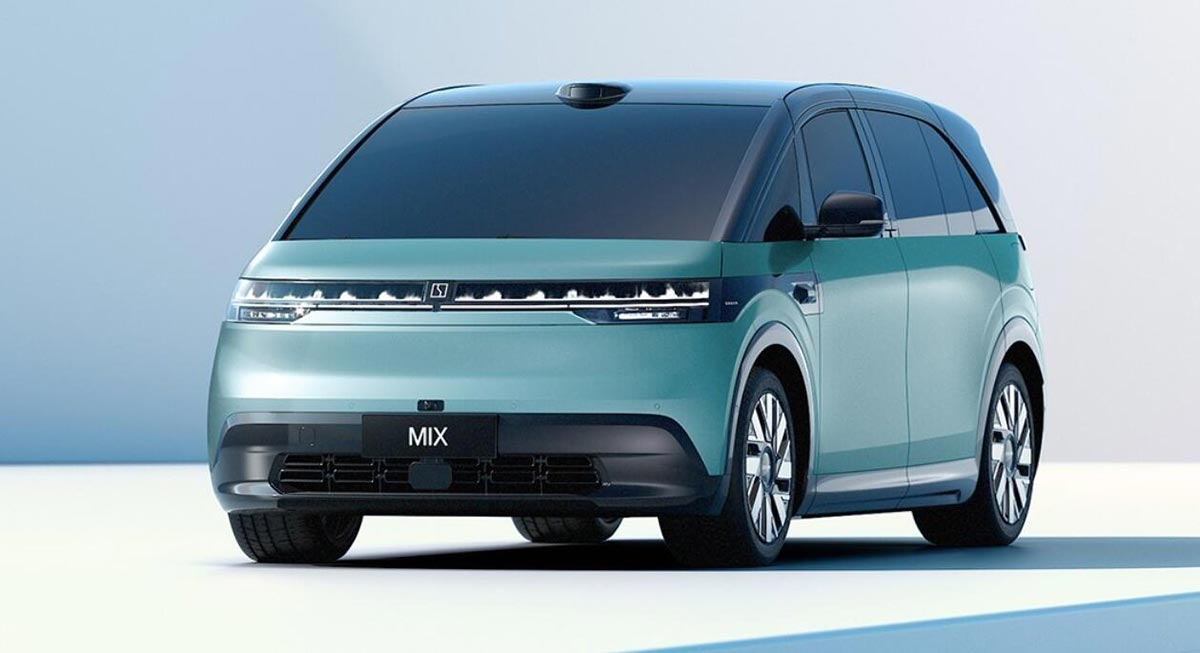car: (202, 69, 1051, 580)
